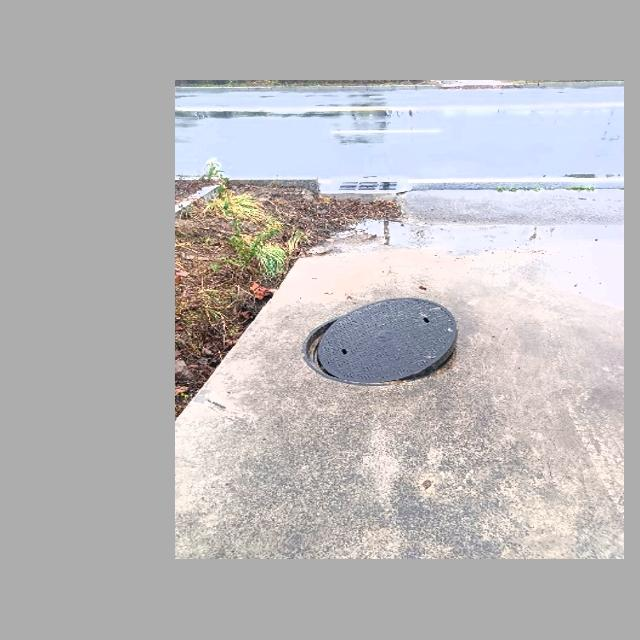uncovered: (302, 296, 457, 384)
